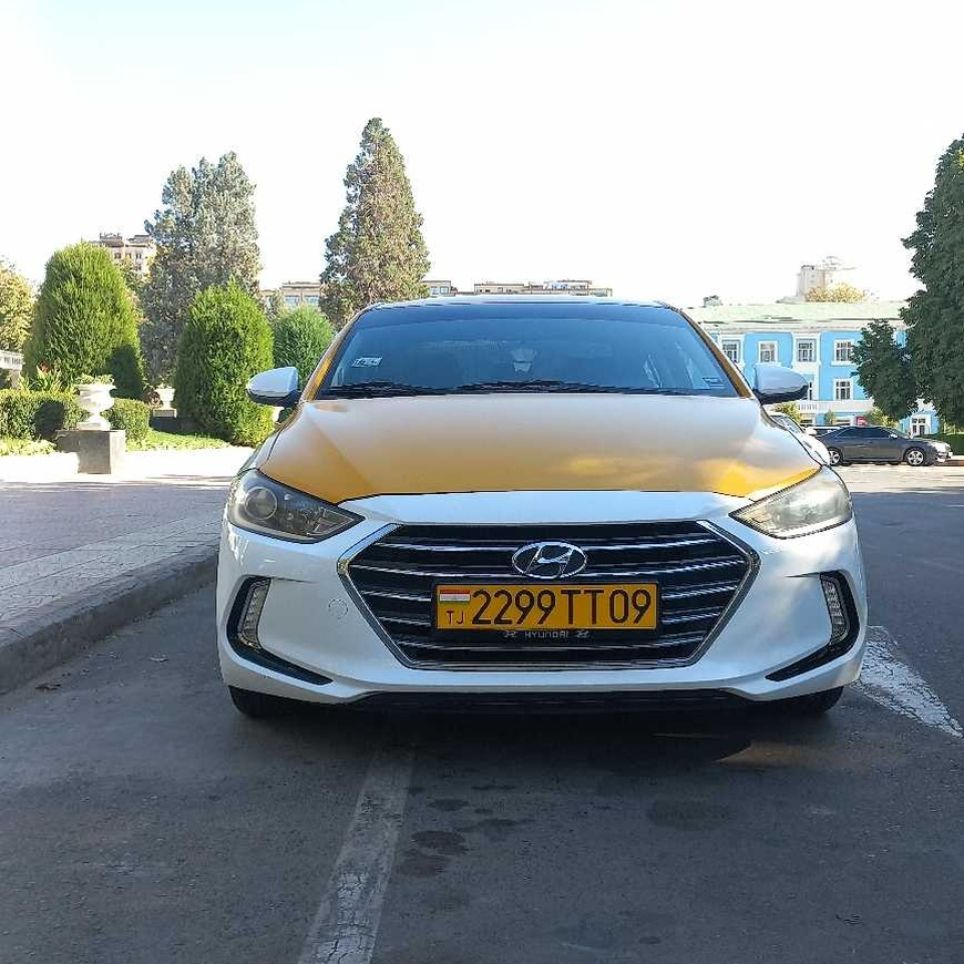license plate: (432, 584, 658, 634)
truck: (217, 290, 878, 738)
